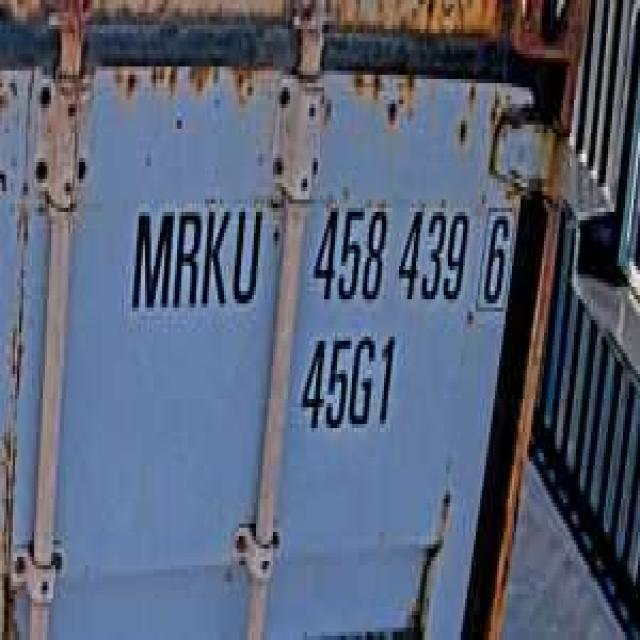dv: (476, 191, 516, 312)
owner: (123, 183, 264, 328)
serial: (308, 183, 470, 312)
size: (294, 320, 401, 441)
